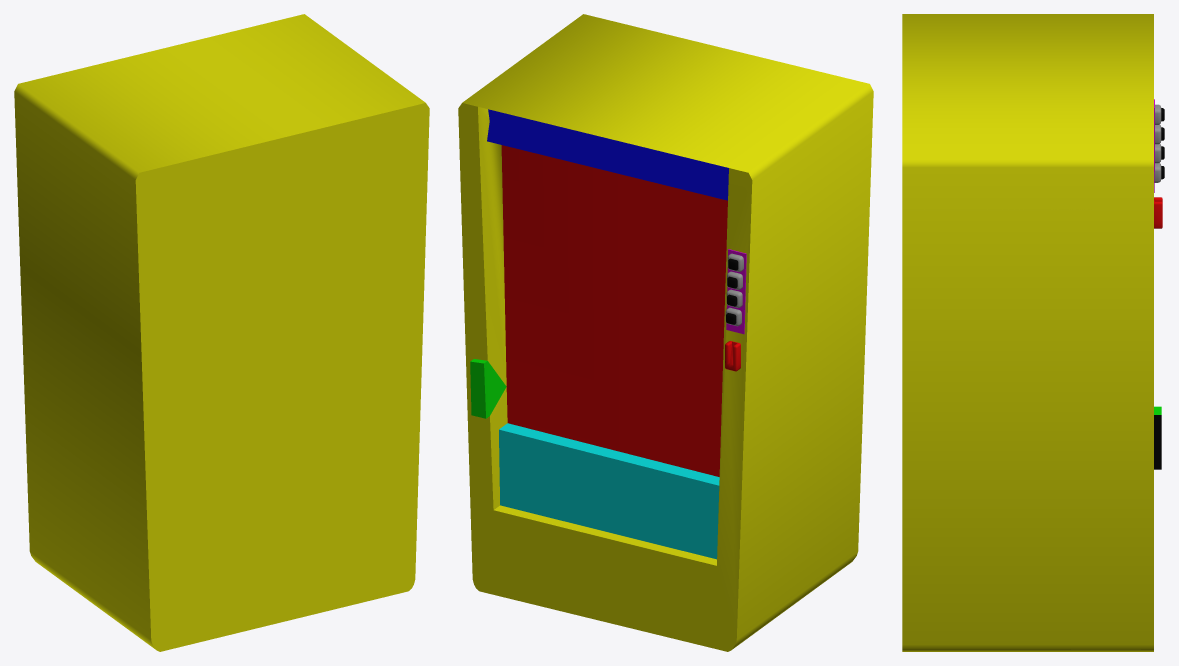
The model's file is SM_Candies2.fbx.
3 renders of one model, left to right at view 1: azimuth 30°, elevation 25°; view 2: azimuth 150°, elevation 25°; view 3: azimuth 270°, elevation 25°, orthographic. The views are drawn at different scales.
Visible parts, largest first — view 1: CandiesVendingMachie1; view 2: CandiesVendingMachie1; view 3: CandiesVendingMachie1.
Part boxes in pixels (box(x1,y1,x2,y2)): CandiesVendingMachie1: box(14, 14, 429, 651); CandiesVendingMachie1: box(458, 14, 873, 651); CandiesVendingMachie1: box(902, 14, 1164, 651).
Size of the model in its own units: 69.9 by 110 by 52.13.
